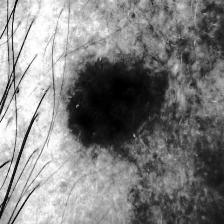Benign Marking or Mole: (63, 59, 171, 143)
